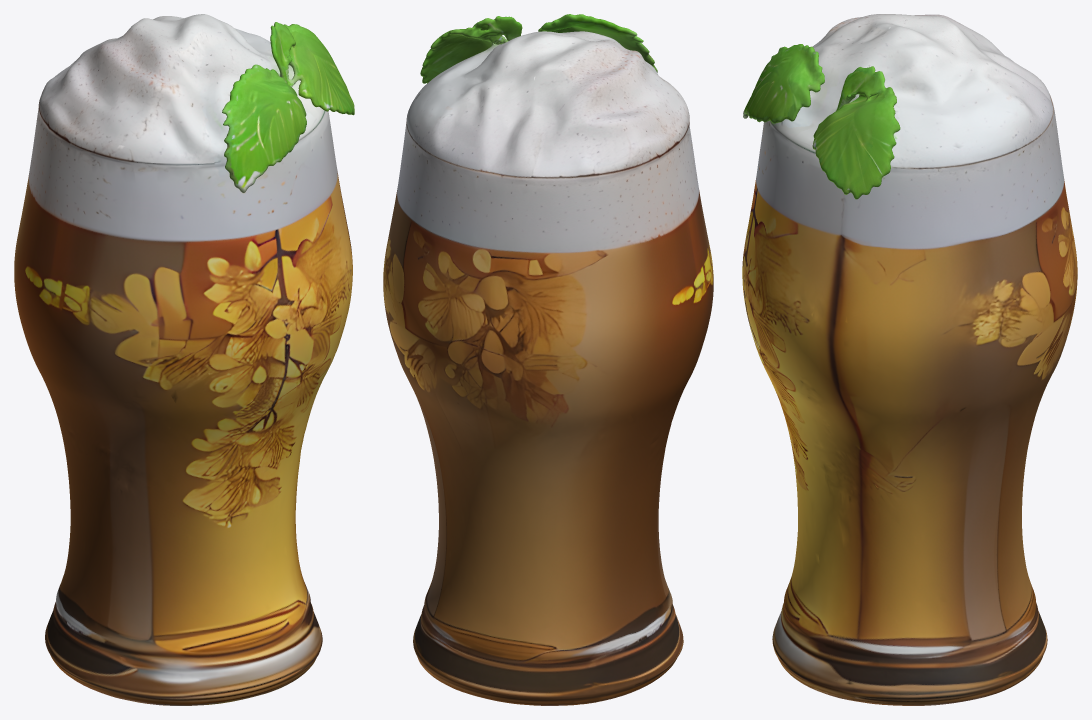
File: Bellini Sour.glb
3 renders of one model, left to right at view 1: azimuth 30°, elevation 25°; view 2: azimuth 150°, elevation 25°; view 3: azimuth 270°, elevation 25°, orthographic. The views are drawn at different scales.
Parts seen in each view (by area): view 1: texture_v100.001; view 2: texture_v100.001; view 3: texture_v100.001.
Part boxes in pixels (box(x1,y1,x2,y2)): texture_v100.001: box(14, 14, 354, 705); texture_v100.001: box(383, 14, 713, 705); texture_v100.001: box(742, 14, 1077, 705).
Size of the model in its own units: 0.5506 by 1.12 by 0.5448.
Materials: 1 (1 with a texture image).
